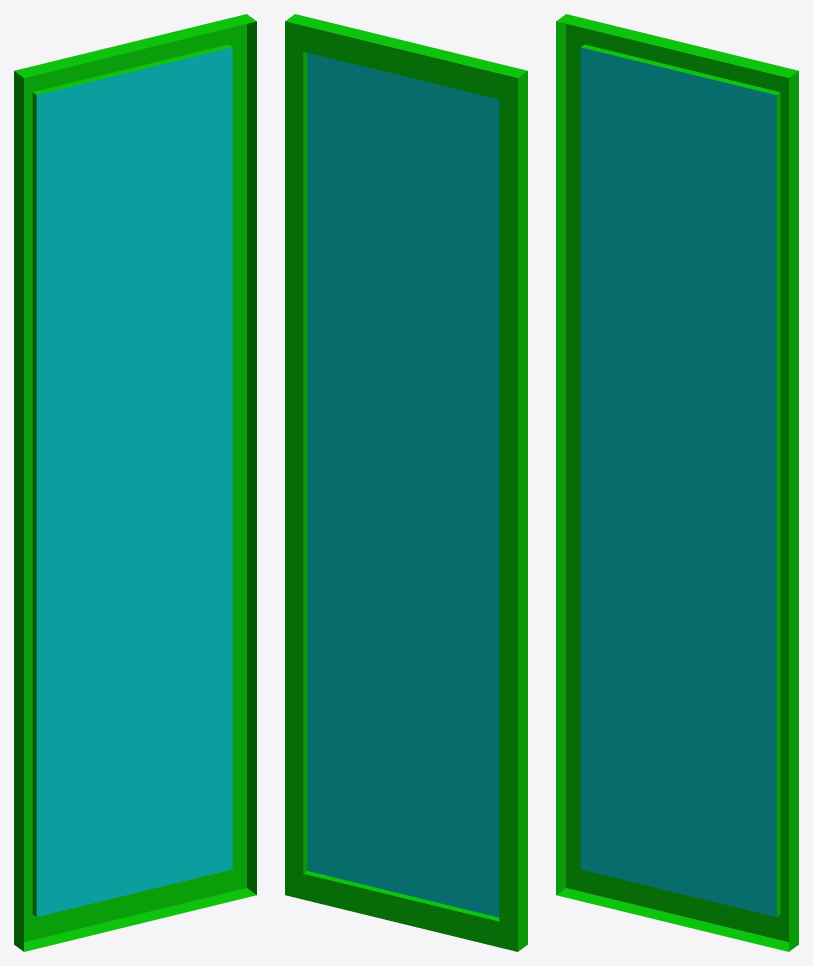
File: SM_SlidingDoorsSingleLeaf_A.fbx
The picture shows the model from 3 angles, left to right: view 1: azimuth 30°, elevation 25°; view 2: azimuth 150°, elevation 25°; view 3: azimuth 330°, elevation 25°; orthographic projection.
Visible parts, largest first — view 1: leaf; view 2: leaf; view 3: leaf.
Boxes of the visible parts, x1,y1,x2,y2 form: leaf: (14, 14, 256, 951); leaf: (285, 14, 527, 951); leaf: (556, 14, 798, 951).
Size of the model in its own units: 67 by 240 by 5.
